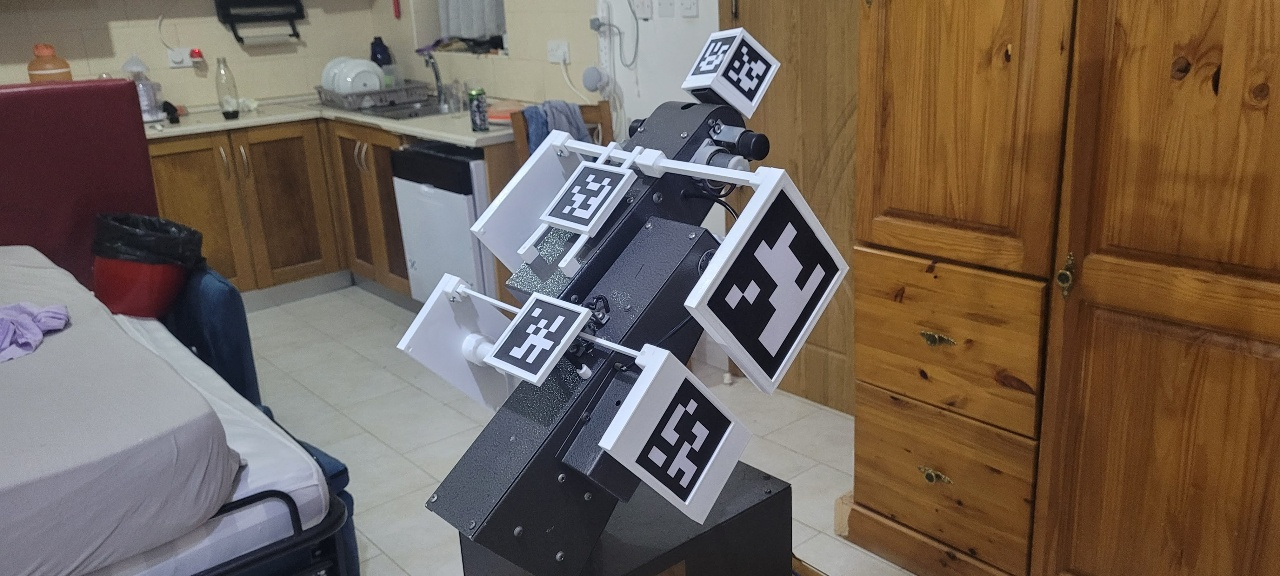Robot: (396, 28, 853, 576)
